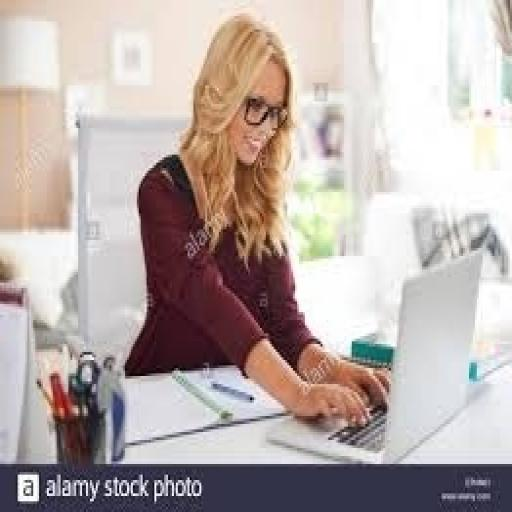using_laptop: (264, 245, 484, 464)
